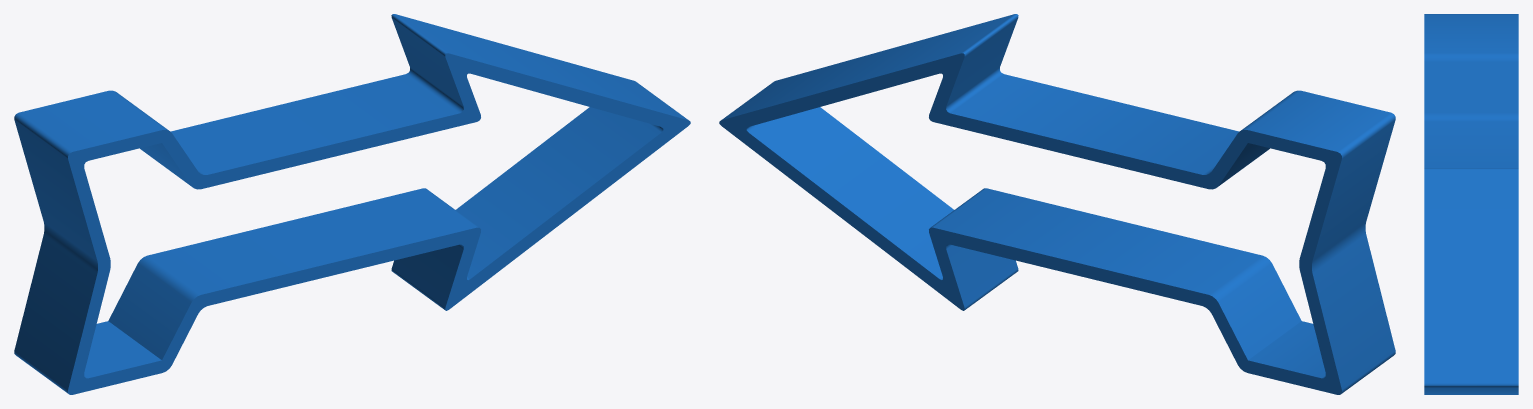
File: Arrow_52.obj
3 renders of one model, left to right at view 1: azimuth 30°, elevation 25°; view 2: azimuth 150°, elevation 25°; view 3: azimuth 270°, elevation 25°, orthographic. The views are drawn at different scales.
Visible parts, largest first — view 1: Arrow_52; view 2: Arrow_52; view 3: Arrow_52.
Boxes of the visible parts, left/top/right/bottom form: Arrow_52: left=14, top=14, right=690, bottom=394; Arrow_52: left=719, top=14, right=1395, bottom=394; Arrow_52: left=1424, top=14, right=1518, bottom=394.
Size of the model in its own units: 4.97 by 1.97 by 0.7423.
